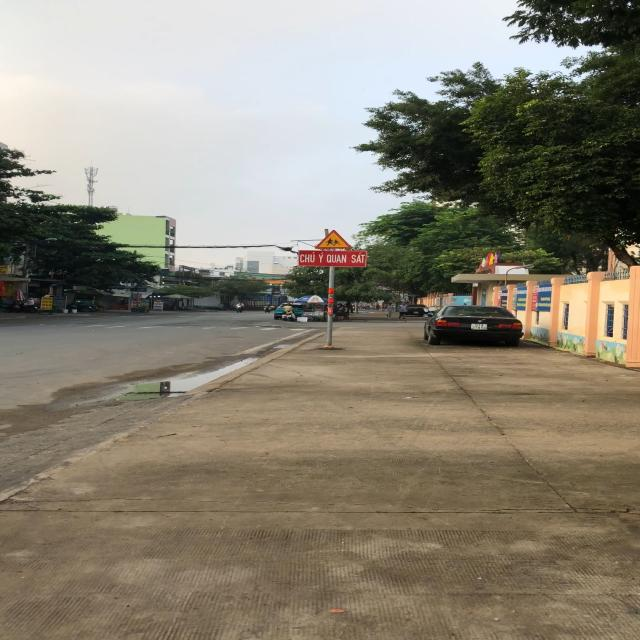Bien bao tre em: (313, 229, 354, 250)
